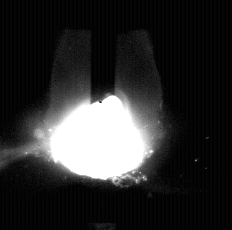arame: (92, 0, 116, 104)
poca: (46, 0, 162, 230)
